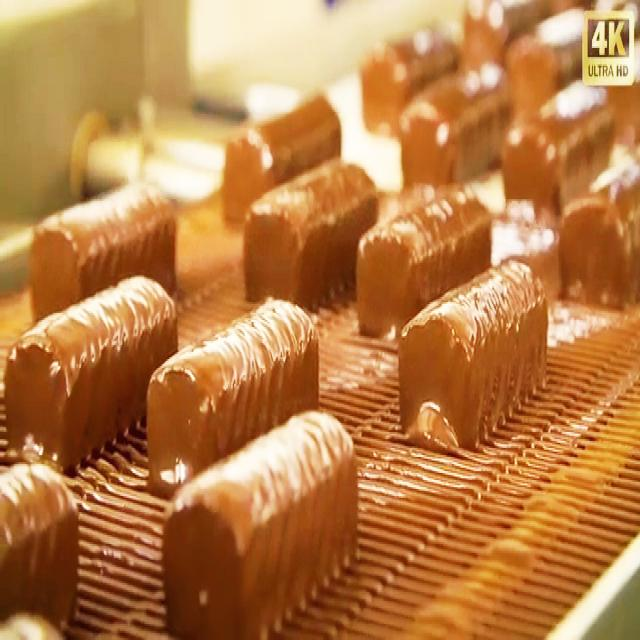Choco: (160, 405, 359, 635), (4, 270, 178, 470), (145, 292, 320, 490), (395, 254, 550, 455), (354, 180, 493, 336), (28, 176, 177, 318), (241, 154, 379, 306), (222, 87, 341, 218), (0, 459, 83, 624), (402, 59, 505, 182), (361, 17, 461, 141), (504, 90, 599, 215), (555, 174, 639, 311), (498, 16, 577, 95)
